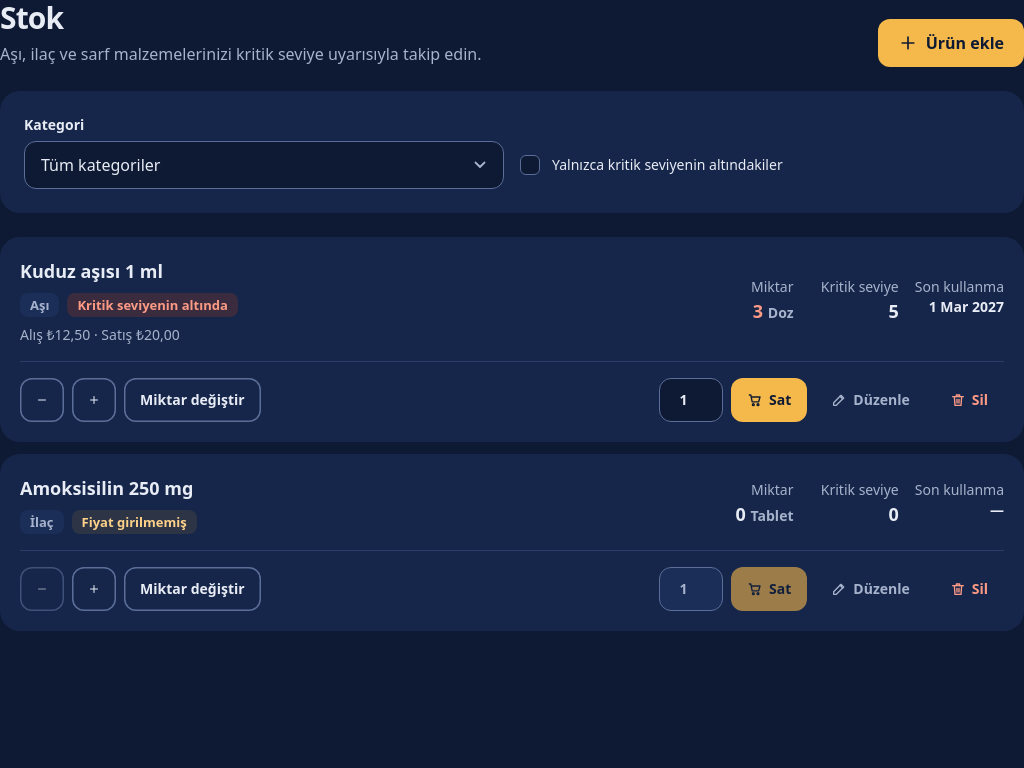
Test case: StockPage — miktar değiştir › stokta olandan fazlası düşülemez; istek gönderilmez
Click the button named "Miktar değiştir: Kuduz aşısı 1 ml" at (192, 400), box [124, 378, 261, 422]
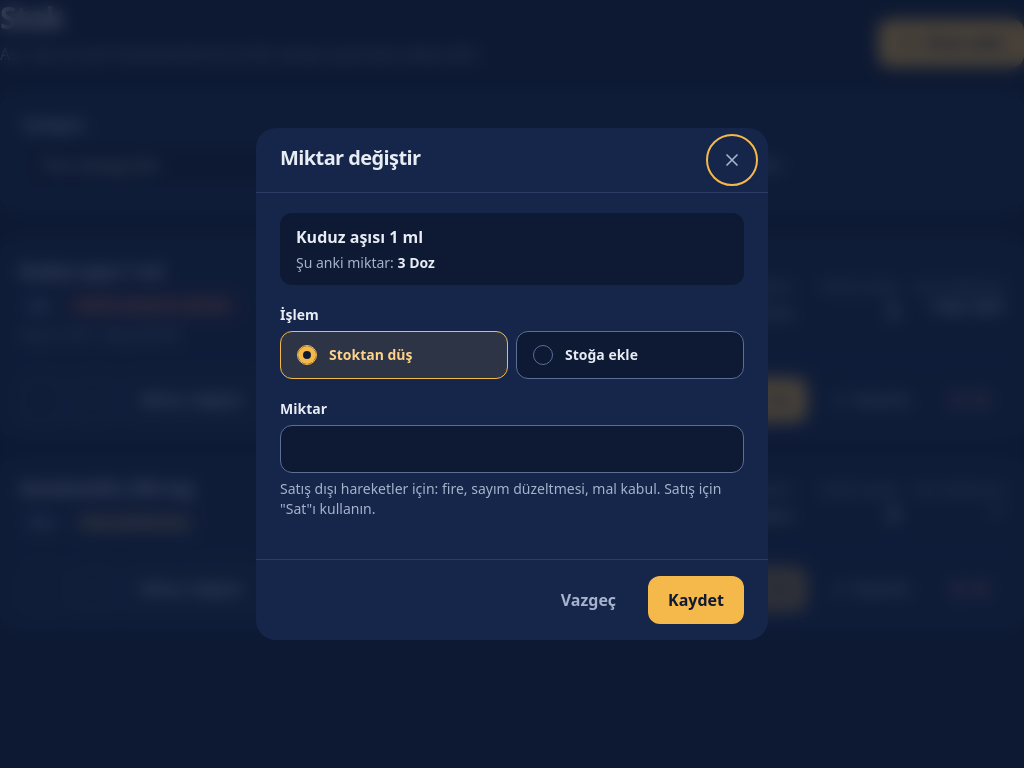
Type "4" into the number field labelled "Miktar" at (512, 449), box [280, 425, 744, 473]
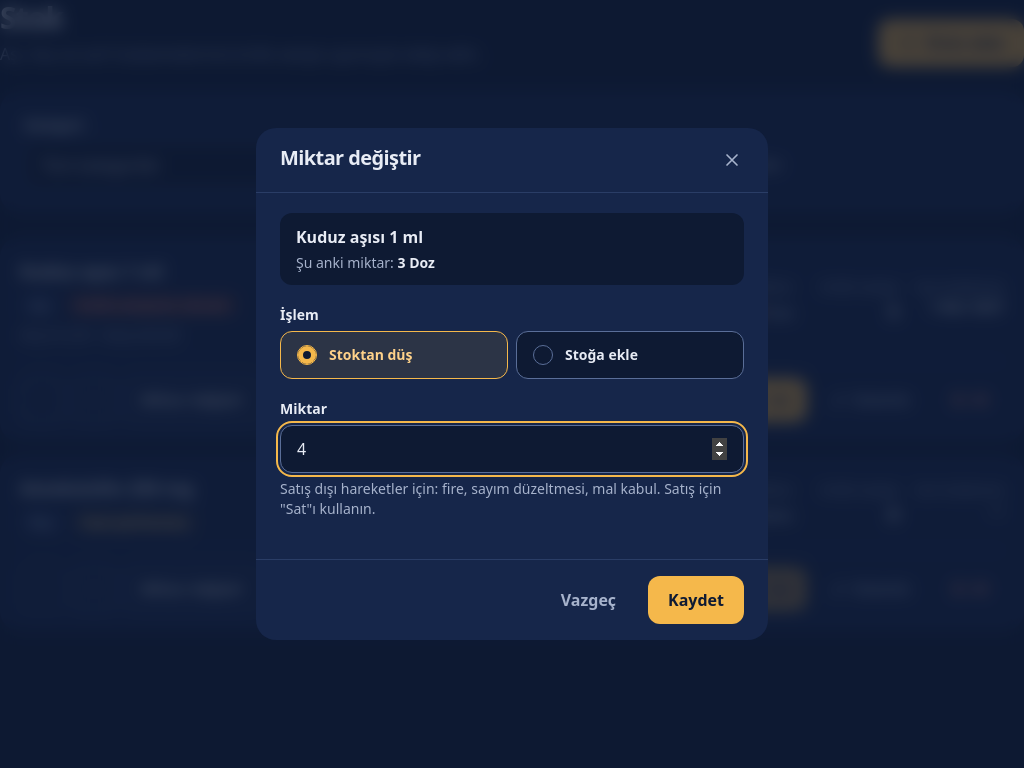
Click the button "Kaydet" at (696, 600), box [648, 576, 744, 624]
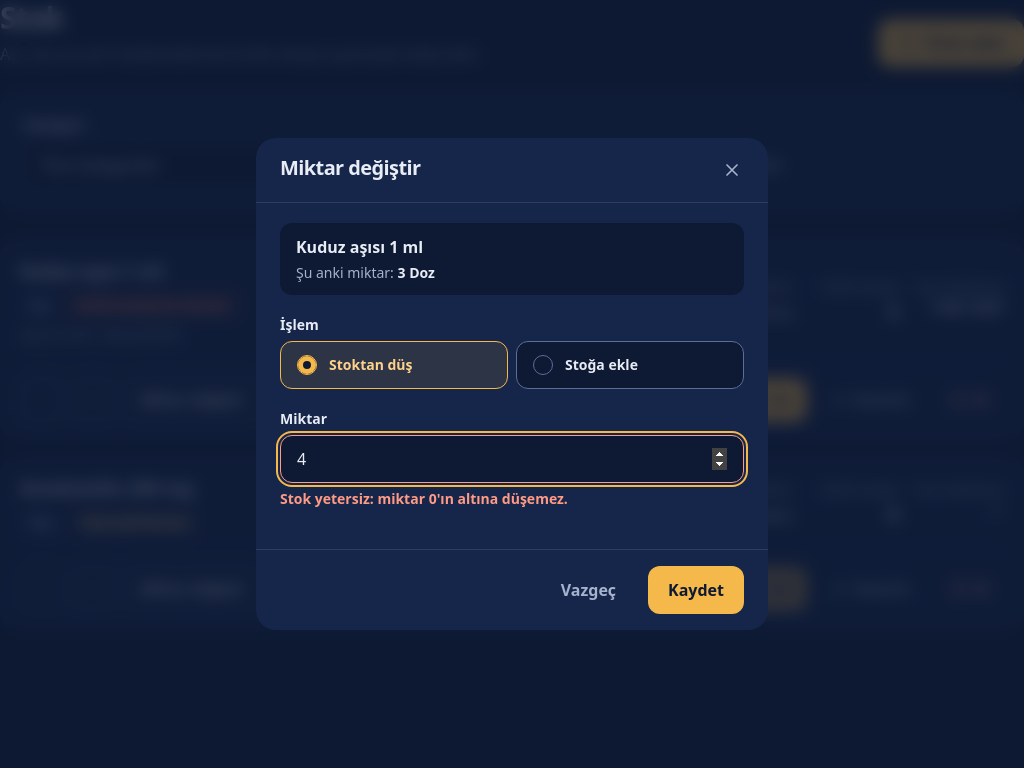
Check: the text "Stok yetersiz: miktar 0'ın altına düşemez." is shown, box [280, 489, 568, 508]
